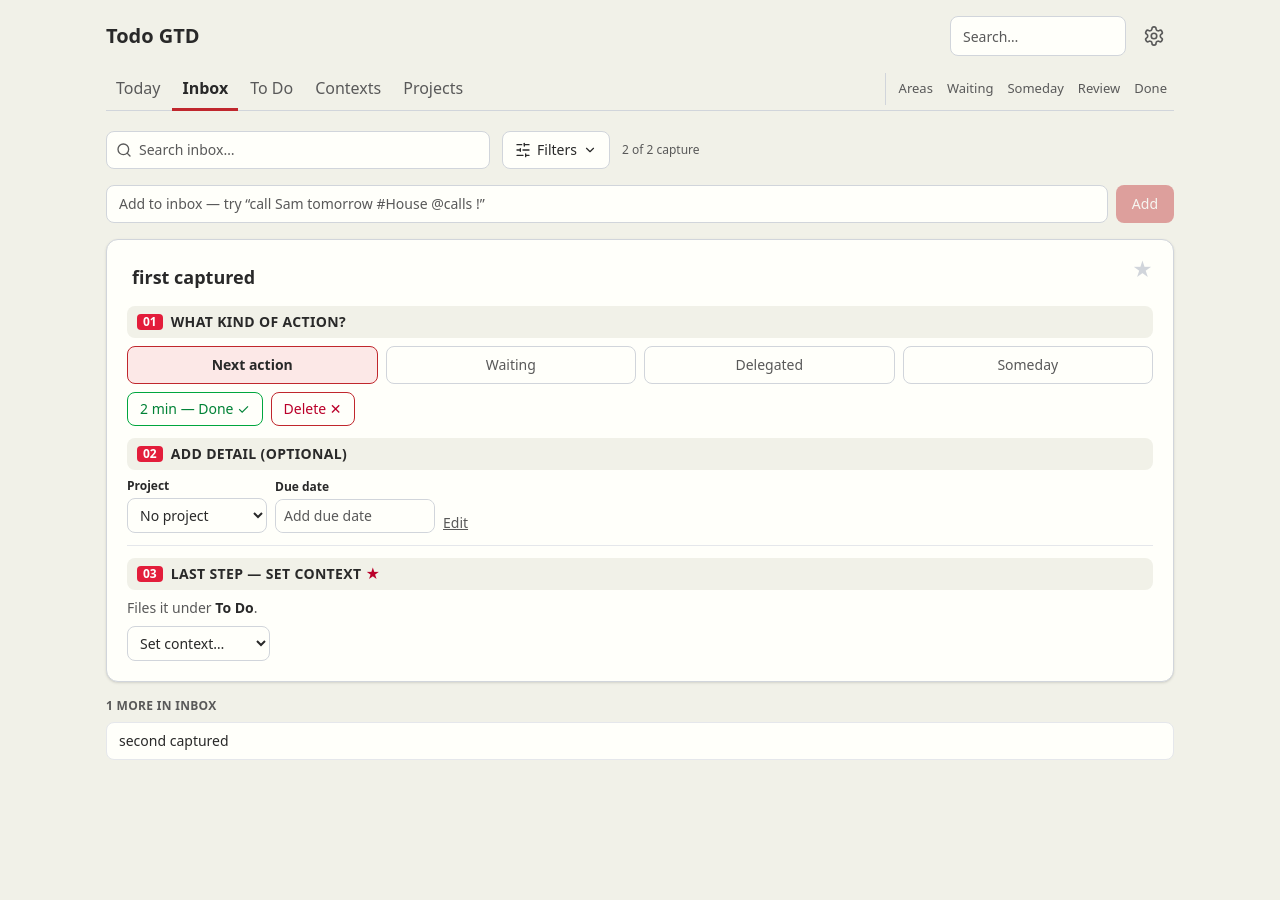
Test: InboxPage triage selection › does not carry one item's chosen destination onto the next
Click the button "second captured": {"x": 174, "y": 740} [106, 722, 1174, 760]
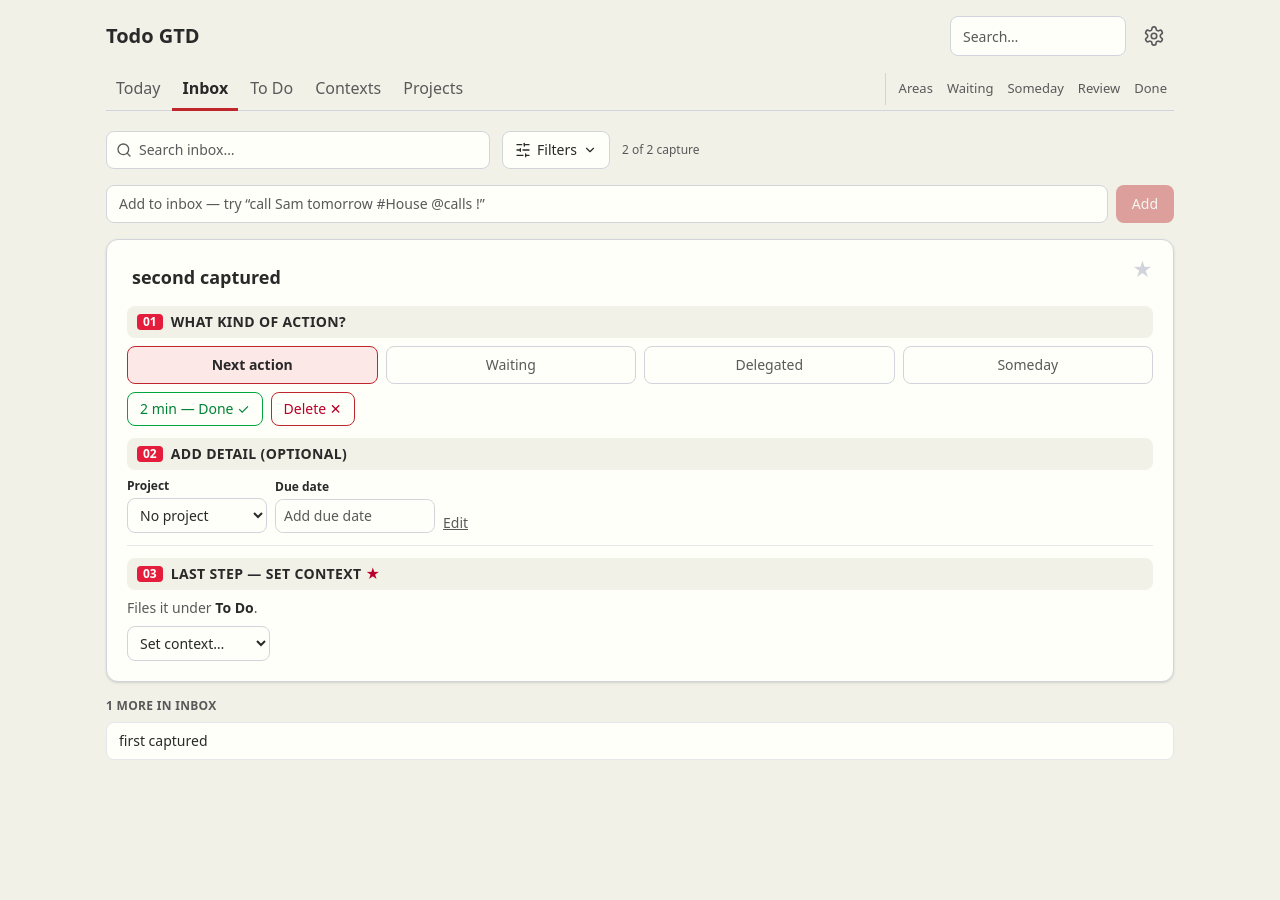
Click the button "Waiting": {"x": 511, "y": 365} [386, 346, 636, 384]
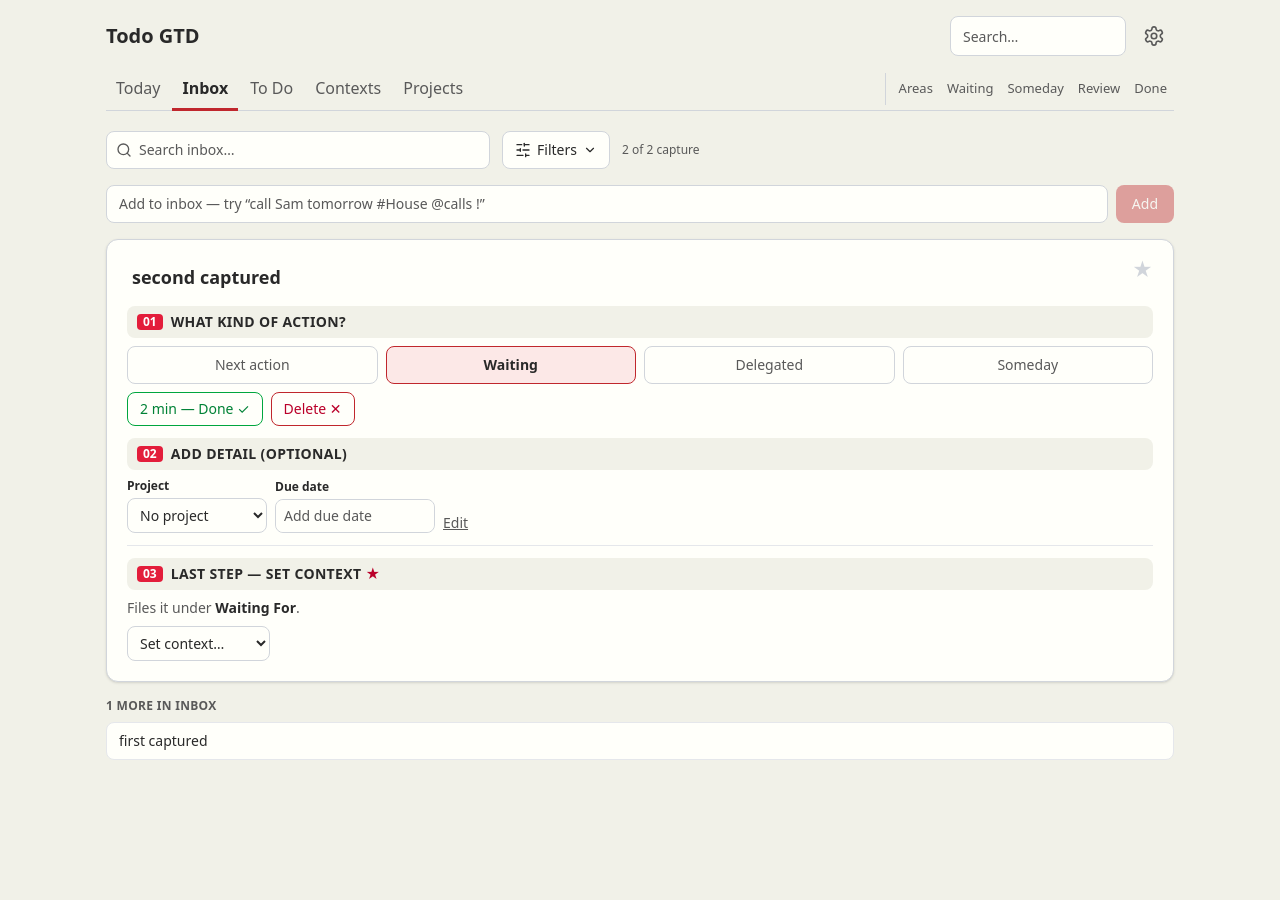
Now the button "Waiting" is pressed, box [386, 346, 636, 384]
Click the button "first captured": {"x": 163, "y": 740} [106, 722, 1174, 760]
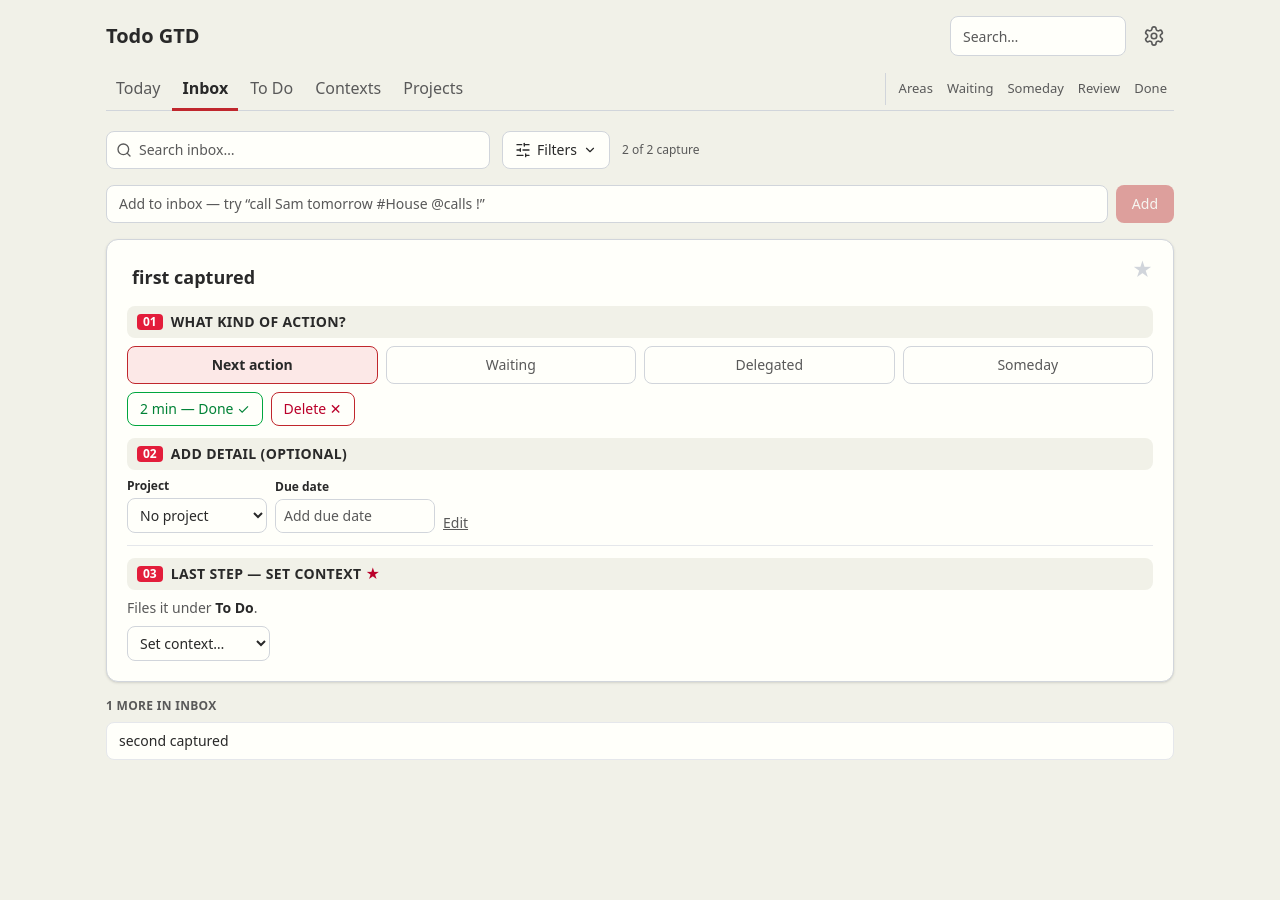
Now the button titled "Click to rename" reads "first captured", box [127, 260, 260, 294]
